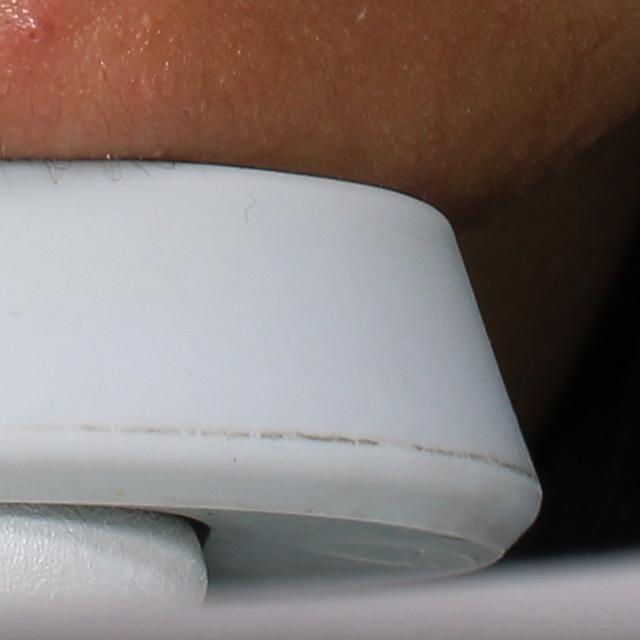papule: (20, 10, 56, 52)
